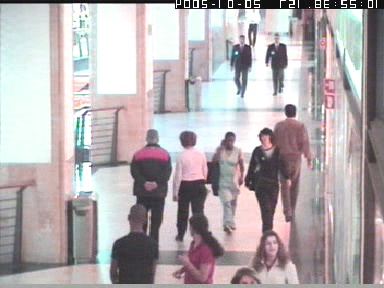person: (243, 127, 291, 239), (129, 128, 171, 243), (275, 104, 313, 222), (174, 132, 209, 246), (109, 203, 158, 283), (208, 131, 246, 233), (171, 212, 223, 283), (252, 230, 300, 284), (229, 35, 252, 98), (265, 34, 287, 95), (246, 9, 260, 47)
